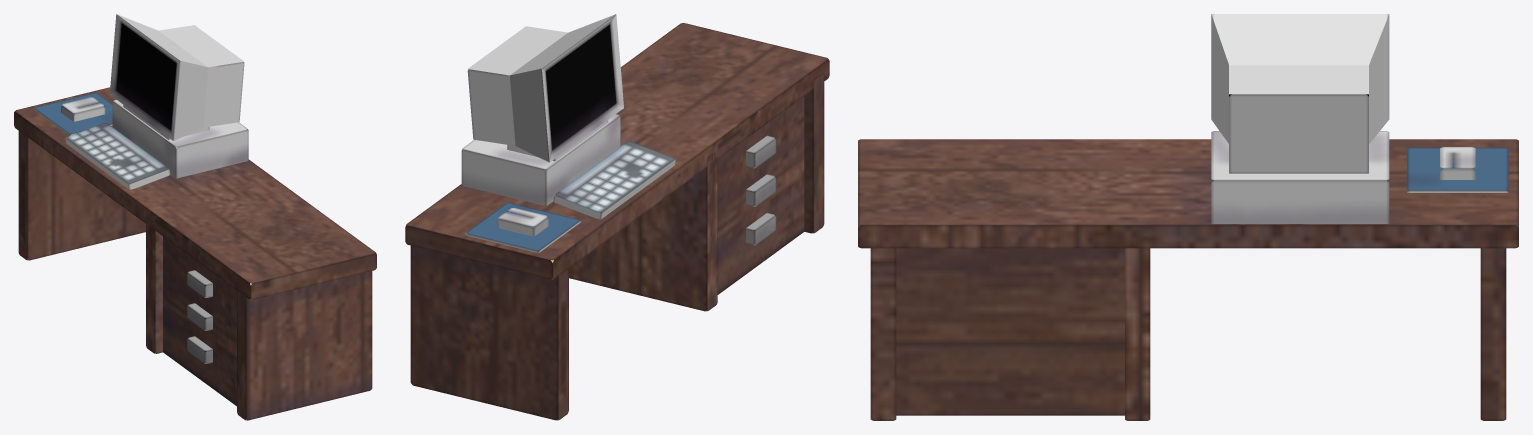
Rendered from mesa.fbx.
3 views of the same model, side by side, from view 1: azimuth 30°, elevation 25°; view 2: azimuth 150°, elevation 25°; view 3: azimuth 270°, elevation 25° (orthographic). The views are drawn at different scales.
Parts seen in each view (by area): view 1: cube, cube_2, cube_11, cube_1, cube_3, cube_10, cube_9, cube_4, cube_13, cube_14, cube_7, cube_5 (+1 smaller); view 2: cube, cube_1, cube_11, cube_4, cube_3, cube_10, cube_9, cube_2, cube_13, cube_14, cube_5, cube_6 (+1 smaller); view 3: cube, cube_8, cube_11, cube_10, cube_2, cube_1, cube_4, cube_13, cube_14.
Boxes of the visible parts, x1,y1,x2,y2 form: cube: (14, 87, 376, 299); cube_2: (237, 271, 372, 420); cube_11: (109, 14, 244, 140); cube_1: (18, 123, 145, 260); cube_3: (163, 236, 236, 406); cube_10: (112, 99, 248, 178); cube_9: (65, 123, 170, 189); cube_4: (146, 217, 162, 353); cube_13: (33, 93, 112, 135); cube_14: (61, 97, 105, 121); cube_7: (187, 336, 212, 363); cube_5: (187, 270, 212, 297); cube: (405, 23, 829, 279); cube_1: (410, 245, 568, 420); cube_11: (467, 14, 623, 162); cube_4: (569, 152, 717, 311); cube_3: (717, 96, 804, 294); cube_10: (461, 114, 620, 206); cube_9: (553, 141, 675, 219); cube_2: (804, 73, 824, 233); cube_13: (465, 202, 580, 253); cube_14: (497, 207, 548, 236); cube_5: (746, 135, 776, 168); cube_6: (746, 174, 776, 206); cube: (858, 139, 1518, 248); cube_8: (896, 248, 1124, 415); cube_11: (1211, 14, 1389, 173); cube_10: (1211, 131, 1389, 223); cube_2: (870, 237, 896, 420); cube_1: (1480, 237, 1506, 420); cube_4: (1125, 237, 1150, 420); cube_13: (1407, 147, 1508, 192); cube_14: (1440, 147, 1475, 179).
Size of the model in its own units: 50.23 by 97.44 by 162.
Materials: 1 (1 with a texture image).
